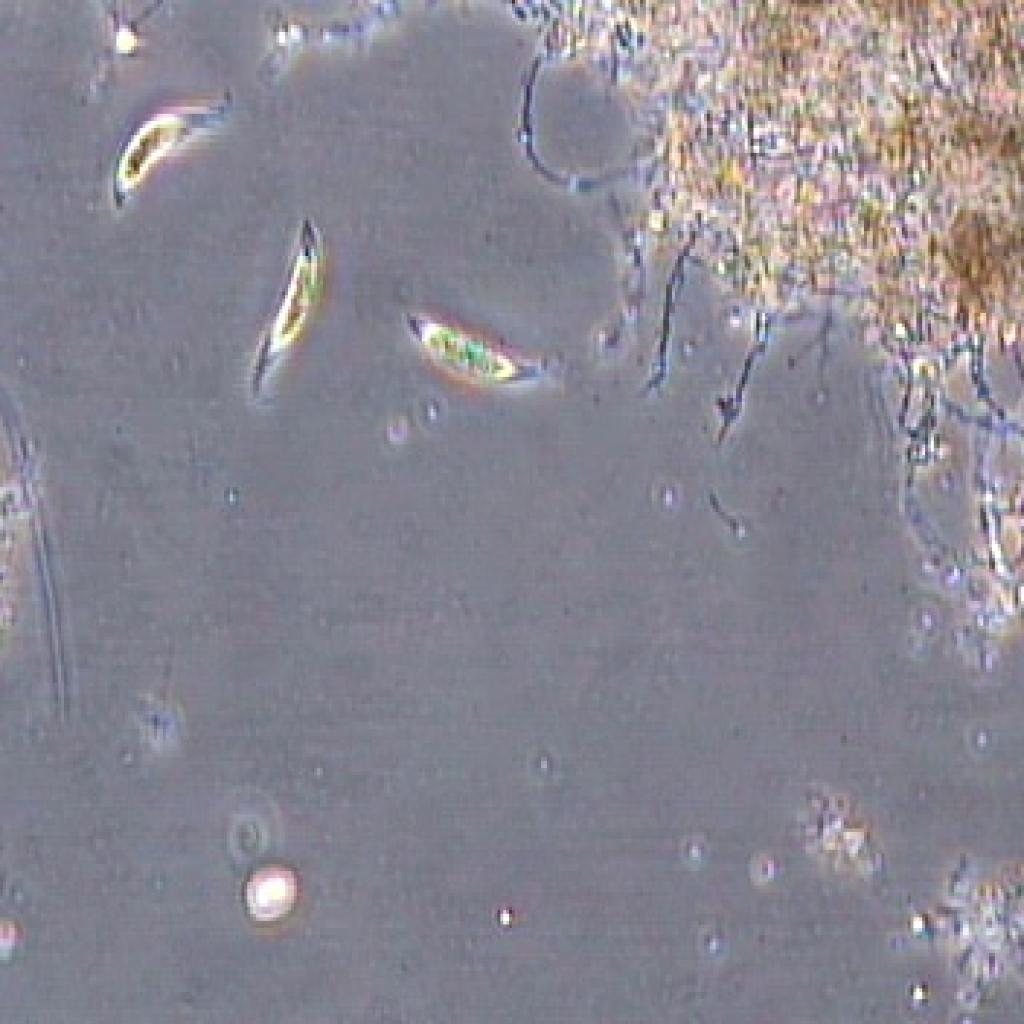Pristina: (387, 260, 558, 423), (93, 78, 250, 210), (249, 208, 339, 436)
